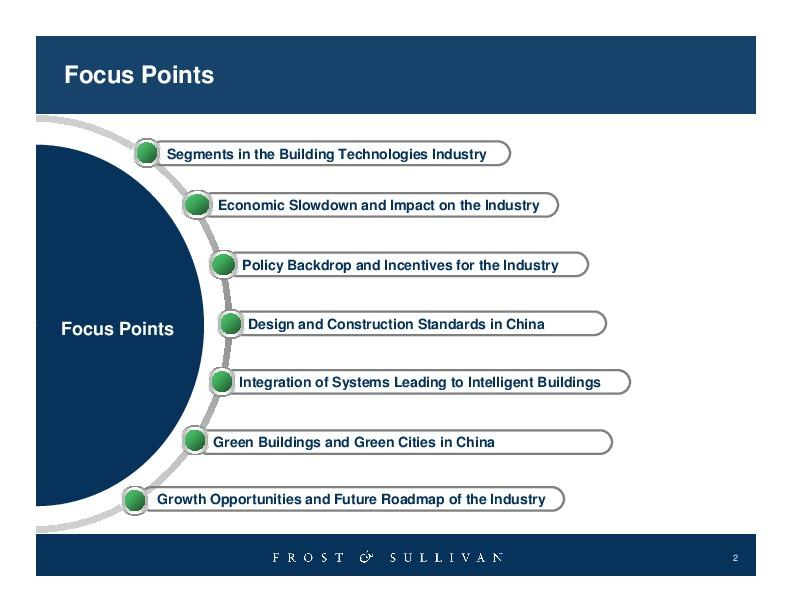paragraph: (53, 117, 705, 519)
title: (61, 46, 232, 104)
